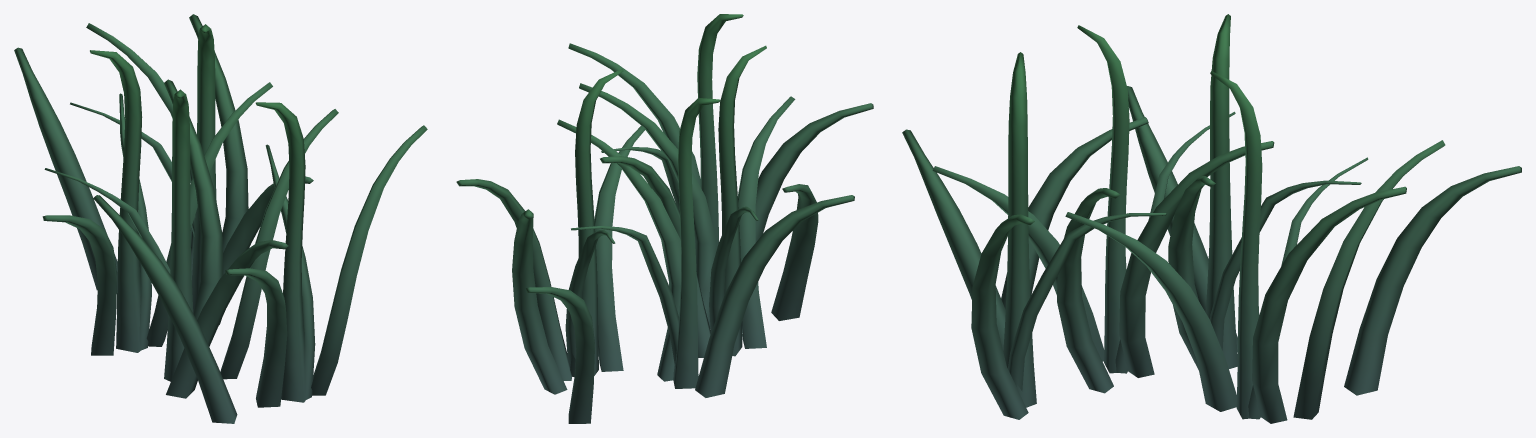
The model's file is Grass_03.fbx.
The picture shows the model from 3 angles, left to right: view 1: azimuth 30°, elevation 25°; view 2: azimuth 150°, elevation 25°; view 3: azimuth 270°, elevation 25°; orthographic projection. The views are drawn at different scales.
Parts seen in each view (by area): view 1: Grass_03; view 2: Grass_03; view 3: Grass_03.
Part boxes in pixels (x1,y1,x2,y2): Grass_03: (14,14,427,423); Grass_03: (456,14,873,423); Grass_03: (902,14,1521,423).
Bounding box in the file's own units: 143 × 123 × 208.
